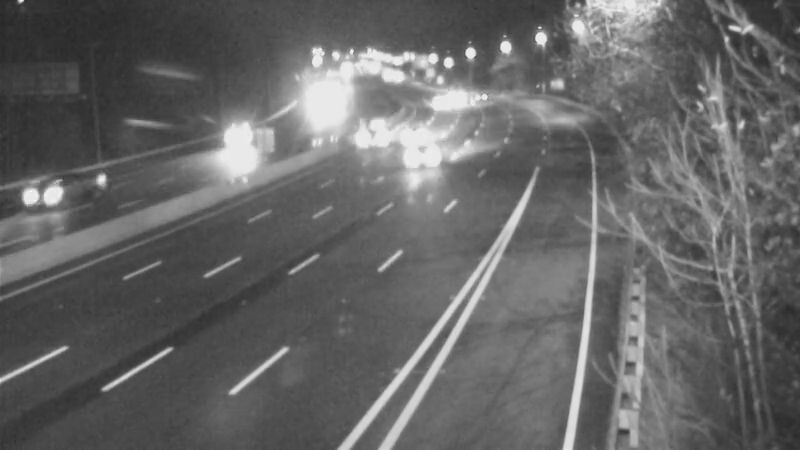vehicle: (386, 115, 466, 195), (6, 153, 86, 233), (455, 71, 505, 121), (419, 76, 469, 126), (433, 80, 483, 130), (392, 111, 442, 161), (351, 111, 401, 161), (205, 113, 255, 163)
